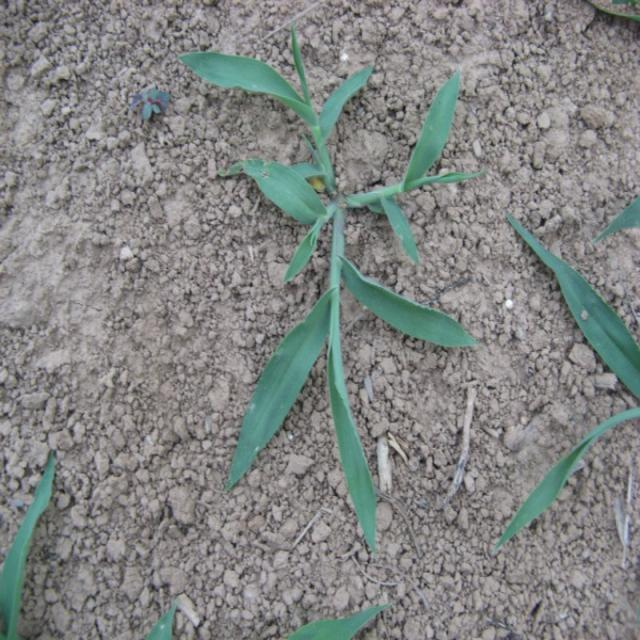bg: (182, 31, 483, 543)
